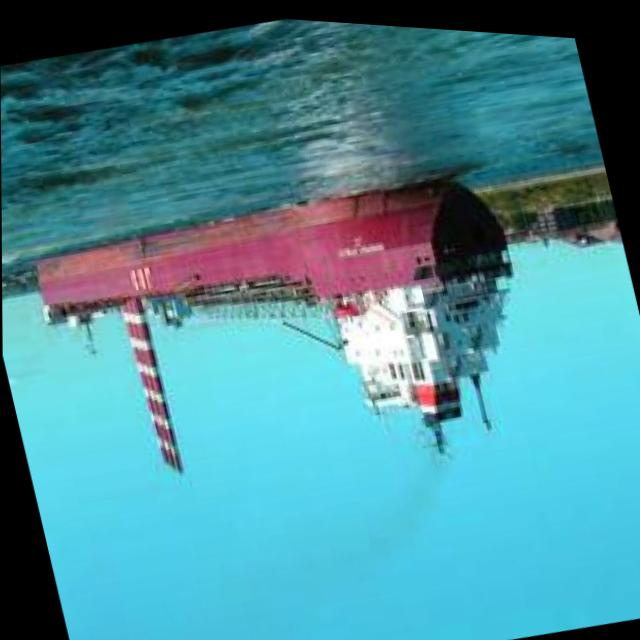ship2: (35, 169, 514, 447)
